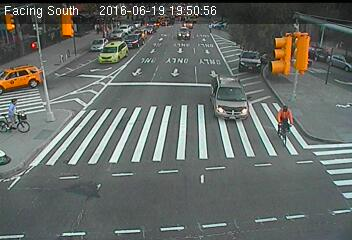neg: (265, 98, 307, 154)
